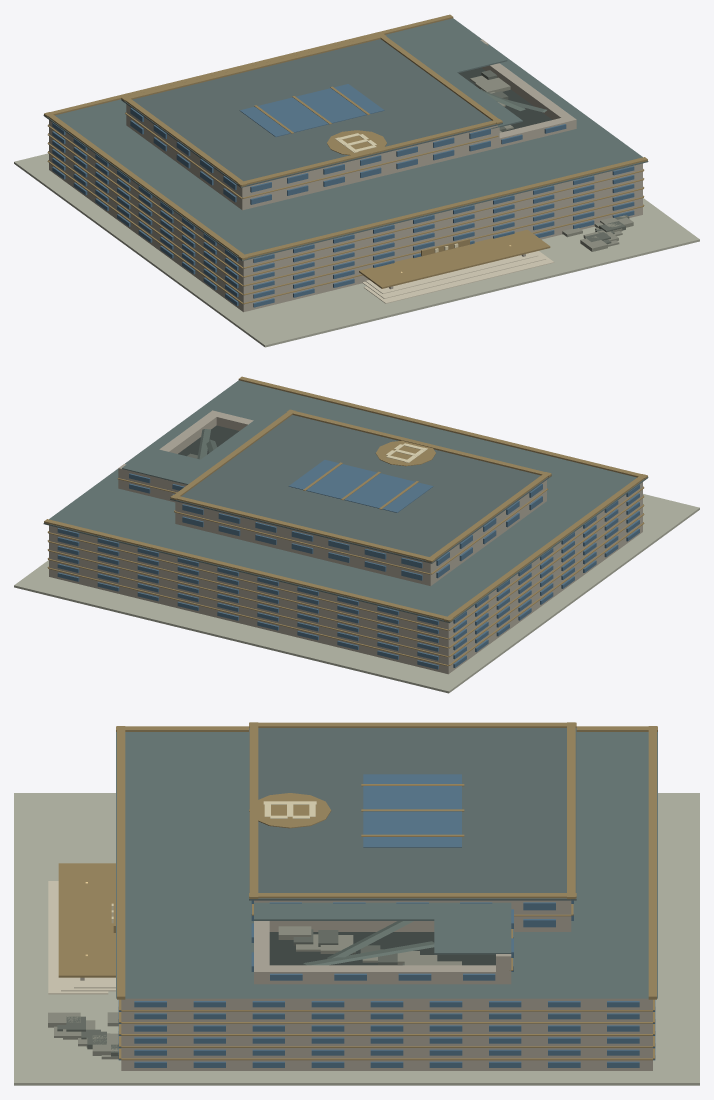
The model's file is bank-ruined.glb.
The picture shows the model from 3 angles, top to bottom: view 1: azimuth 30°, elevation 25°; view 2: azimuth 150°, elevation 25°; view 3: azimuth 270°, elevation 25°; orthographic projection. The views are drawn at different scales.
Visible parts, largest first — view 1: bank-main, bank-upper, bank-plinth, bank-main-windows, bank-entrance, bank-east-bay, bank-roof-glass, bank-upper-windows, bank-emblem, bank-exterior-rubble, bank-east-bay-collapse; view 2: bank-main, bank-upper, bank-plinth, bank-main-windows, bank-east-bay, bank-roof-glass, bank-upper-windows, bank-emblem; view 3: bank-main, bank-upper, bank-plinth, bank-east-bay, bank-main-windows, bank-entrance, bank-roof-glass, bank-east-bay-collapse, bank-emblem, bank-exterior-rubble, bank-east-bay-windows, bank-upper-windows.
Part boxes in pixels (x1,y1,x2,y2): bank-main: (43,14,648,312); bank-upper: (121,34,502,210); bank-plinth: (14,153,699,347); bank-main-windows: (52,122,634,307); bank-entrance: (254,86,554,303); bank-east-bay: (413,39,576,149); bank-roof-glass: (239,84,384,136); bank-upper-windows: (130,108,490,204); bank-emblem: (327,130,469,256); bank-exterior-rubble: (562,215,633,251); bank-east-bay-collapse: (470,70,513,132); bank-main: (43,376,648,674); bank-upper: (170,409,551,586); bank-plinth: (14,494,699,693); bank-main-windows: (57,484,639,669); bank-east-bay: (117,410,281,502); bank-roof-glass: (288,460,433,512); bank-upper-windows: (182,484,542,580); bank-emblem: (375,440,435,466); bank-main: (116,726,657,1070); bank-upper: (249,722,576,931); bank-plinth: (14,793,699,1085); bank-east-bay: (254,902,513,984); bank-main-windows: (118,1000,655,1067); bank-entrance: (48,784,464,994); bank-roof-glass: (363,774,461,847); bank-east-bay-collapse: (278,926,461,965); bank-emblem: (111,793,331,932); bank-exterior-rubble: (48,1012,118,1059); bank-east-bay-windows: (251,909,513,980); bank-upper-windows: (251,900,573,927).
Bounding box in the file's own units: 160 × 29.59 × 160.
